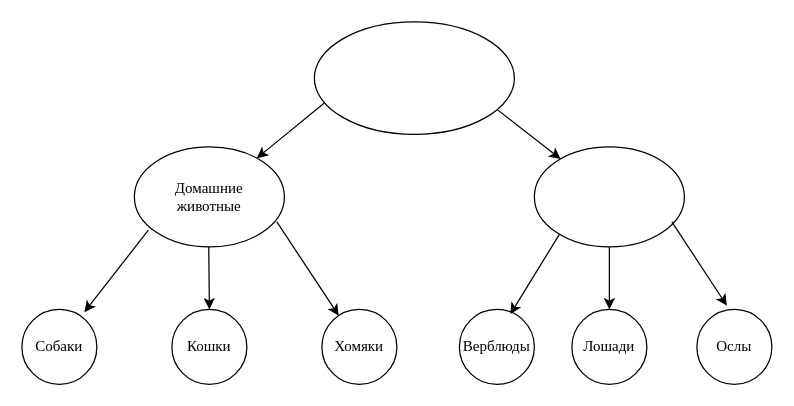
The diagram is 794 pixels wide and 406 high, and some of its shapes have lost their labels. The shapes that lost their labels are listed below. From the top down, each one's centre as x and y in pixels, then its label:
At pixel 413 77: "Родительский класс".
At pixel 608 196: "Вьючные животные".
